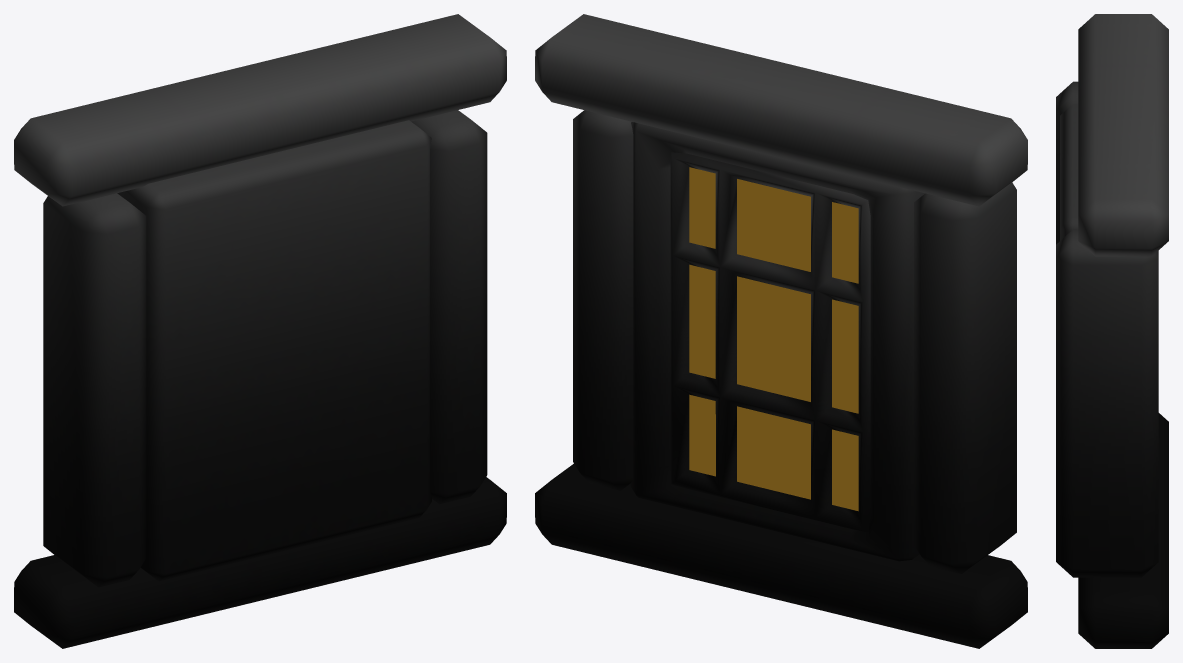
File: SM_Brick_Window_05.fbx
The picture shows the model from 3 angles, left to right: view 1: azimuth 30°, elevation 25°; view 2: azimuth 150°, elevation 25°; view 3: azimuth 270°, elevation 25°; orthographic projection. The views are drawn at different scales.
Parts seen in each view (by area): view 1: SM_Brick_Window_05; view 2: SM_Brick_Window_05; view 3: SM_Brick_Window_05.
Part boxes in pixels (x1,y1,x2,y2): SM_Brick_Window_05: [14, 14, 506, 648]; SM_Brick_Window_05: [535, 14, 1027, 648]; SM_Brick_Window_05: [1056, 14, 1168, 648].
Bounding box in the file's own units: 0.4008 × 0.4217 × 0.0958.
